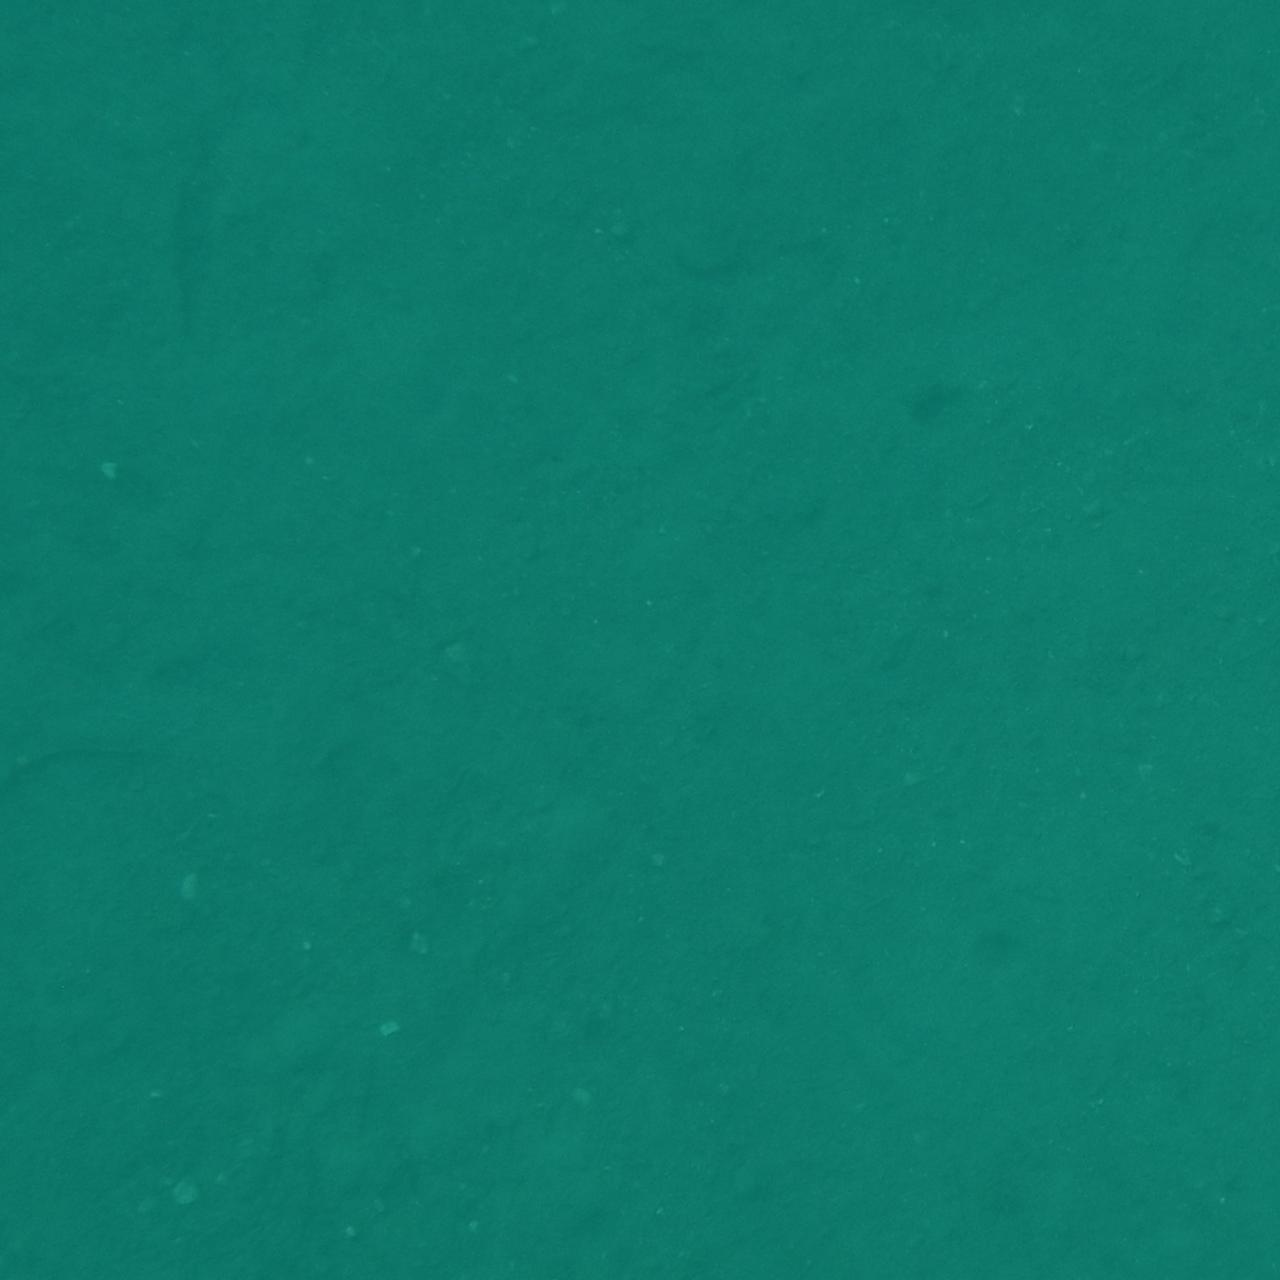Holothuria tubulosa: (1010, 1145, 1204, 1280), (1189, 990, 1280, 1245), (817, 0, 990, 129), (0, 729, 98, 941), (102, 0, 243, 134), (0, 252, 73, 501), (696, 1185, 885, 1280), (1145, 218, 1280, 346), (265, 0, 457, 74), (0, 0, 151, 77), (1164, 0, 1280, 91), (1175, 740, 1280, 837), (0, 1194, 113, 1280), (0, 0, 156, 57), (0, 0, 61, 123), (1177, 0, 1280, 66), (1224, 1173, 1280, 1280), (0, 0, 123, 47), (1194, 0, 1280, 45)
